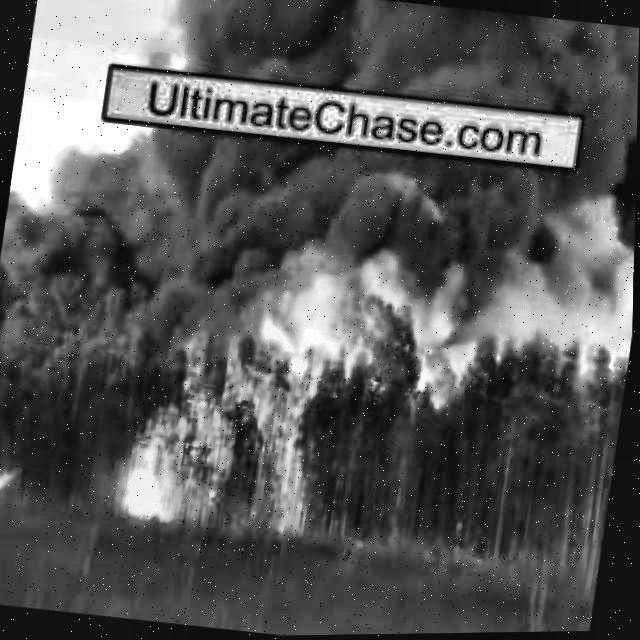Fire: (231, 302, 345, 543), (111, 410, 197, 531), (396, 296, 476, 400), (0, 460, 22, 501)
Smoke: (0, 107, 638, 325), (144, 0, 640, 137)
